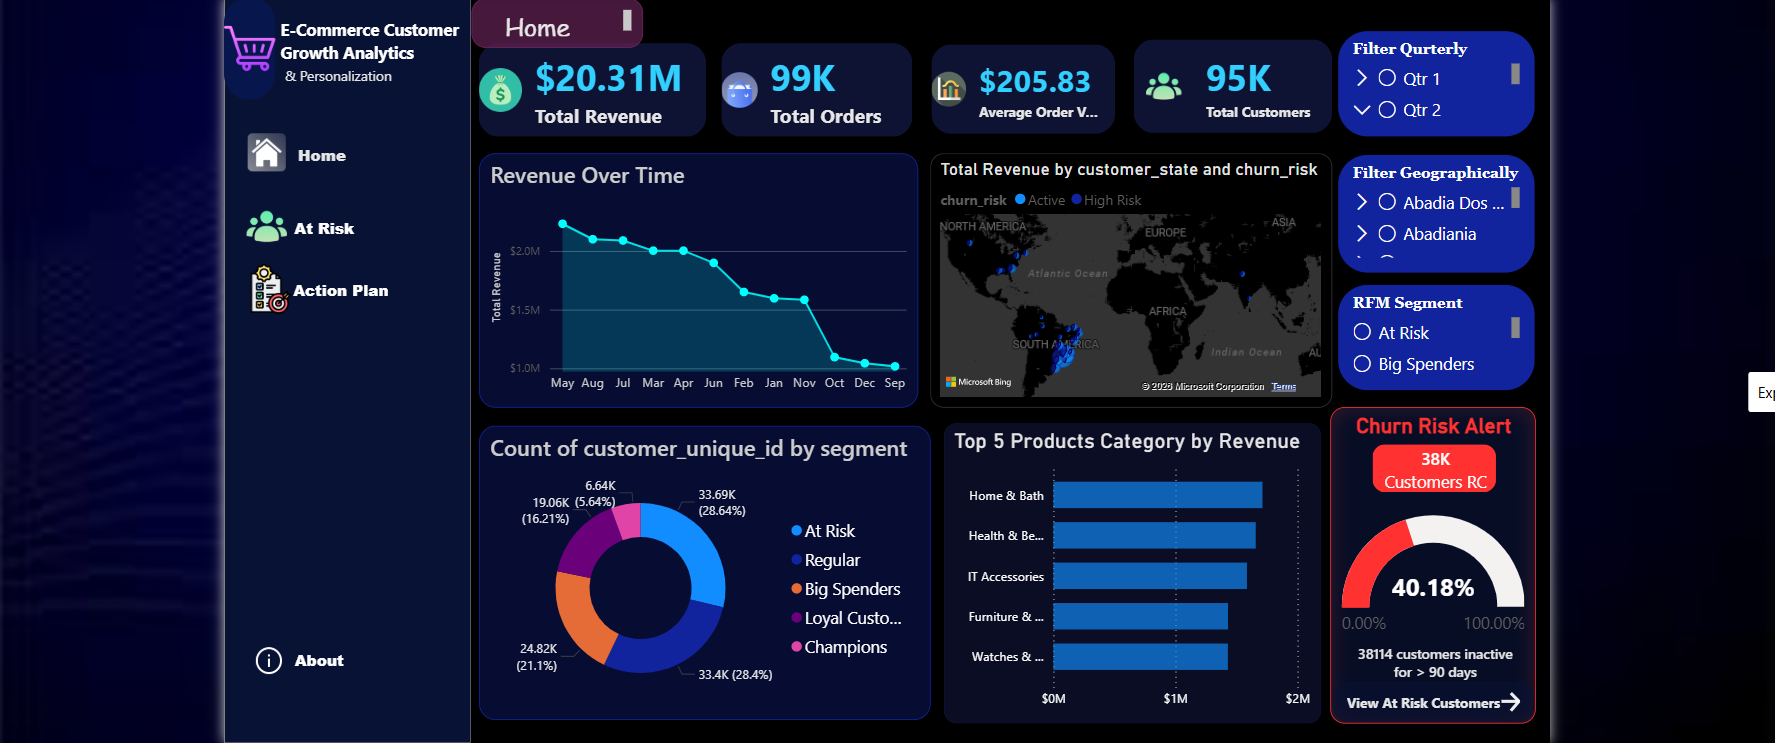

This screenshot's page, from the dashboard's own definition file:
{"tool":"powerbi","page":{"name":"Dashboard","canvas":[1280,720],"ordinal":0},"visuals":[{"type":"shape","box":[0,0,238.8,720.4],"z":0,"group":"g2"},{"type":"cardVisual","fields":{"Data":["Calendar.AOV"]},"box":[665.5,28.8,211.3,120.8],"z":0,"group":"g5"},{"type":"group","id":"g1","title":"Group 1","box":[1058,395.2,222.3,308.7],"z":0,"group":"g4"},{"type":"gauge","title":"Churn Risk Alert","fields":{"Y":["Calendar.Churn Risk %"]},"box":[1067.6,395.2,198.6,305.4],"z":0,"group":"g3"},{"type":"cardVisual","fields":{"Data":["Calendar.Total Customers"]},"box":[861.8,24.7,225,124.9],"z":1000,"group":"g5"},{"type":"textbox","box":[65.9,137.2,74.1,42.5],"z":1000,"group":"g2"},{"type":"cardVisual","fields":{"Data":["Calendar.Customers At Risk Count"]},"box":[1091.6,414.7,153.9,80.3],"z":1000,"group":"g3"},{"type":"actionButton","box":[1069.7,660,194.5,38.8],"z":1000,"group":"g4"},{"type":"group","id":"g2","title":"Group 4","box":[0,0,238.8,720.4],"z":2000,"group":"g5"},{"type":"image","box":[8.2,131.7,65.9,37],"z":2000,"group":"g2"},{"type":"cardVisual","fields":{"Data":["Calendar.Inactive Customers Label"]},"box":[1058,578.9,222.3,125.1],"z":2000,"group":"g3"},{"type":"cardVisual","fields":{"Data":["Calendar.Total Orders"]},"box":[463.8,27.4,218.2,124.9],"z":3000,"group":"g5"},{"type":"textbox","box":[49.4,207.2,94.7,37],"z":3000,"group":"g2"},{"type":"cardVisual","fields":{"Data":["Calendar.Total Revenue"]},"box":[229.2,27.4,253.9,124.9],"z":4000,"group":"g5"},{"type":"image","box":[8.2,179.8,65.9,83.7],"z":4000,"group":"g2"},{"type":"areaChart","title":"Revenue Over Time","fields":{"Category":["Calendar.Month"],"Y":["Calendar.Total Revenue"]},"box":[245.6,150.9,424,245.6],"z":5000,"group":"g5"},{"type":"textbox","box":[44.4,624.4,94.7,37],"z":6000,"group":"g5"},{"type":"textbox","box":[53.5,267.6,119.4,37],"z":7000,"group":"g5"},{"type":"group","id":"g3","title":"Group 2","box":[1058,395.2,222.3,308.7],"z":7504,"group":"g1"},{"type":"donutChart","fields":{"Y":["CountNonNull(final_dashboard_master.customer_unique_id)"],"Category":["final_dashboard_master.segment"]},"box":[245.6,414.4,436.4,284],"z":8000,"group":"g5"},{"type":"textbox","box":[49.4,15.1,229.2,93.3],"z":9000,"group":"g5"},{"type":"map","fields":{"Category":["final_dashboard_master.customer_state"],"Size":["Calendar.Total Revenue"],"Series":["final_dashboard_master.churn_risk"]},"box":[682,150.9,388.3,245.6],"z":10000,"group":"g5"},{"type":"image","box":[0,0,49.5,98.9],"z":11000,"group":"g5"},{"type":"group","id":"g4","title":"Group 3","box":[1058,395.2,222.3,308.7],"z":12000,"group":"g5"},{"type":"actionButton","box":[17.8,130.4,131.7,39.8],"z":13000,"group":"g5"},{"type":"actionButton","box":[12.3,201.7,150.9,39.8],"z":14000,"group":"g5"},{"type":"clusteredBarChart","fields":{"Category":["final_dashboard_master.category_english"],"Y":["Calendar.Total Revenue"]},"box":[694.3,411.7,363.6,289.5],"z":15000,"group":"g5"},{"type":"image","box":[28,621.6,31.6,38.4],"z":16000,"group":"g5"},{"type":"actionButton","box":[24.7,620.2,119.4,39.8],"z":17000,"group":"g5"},{"type":"actionButton","box":[17.8,201.7,127.6,39.8],"z":18000,"group":"g5"},{"type":"actionButton","box":[12.3,253.9,183.9,53.5],"z":19000,"group":"g5"},{"type":"actionButton","box":[22,127.6,127.6,39.8],"z":20000,"group":"g5"},{"type":"actionButton","box":[12.3,201.7,127.6,39.8],"z":21000,"group":"g5"},{"type":"image","box":[20.6,242.9,49.4,78.2],"z":22000,"group":"g5"},{"type":"group","id":"g5","title":"Group 5","box":[0,0,1280.3,720.4],"z":22004},{"type":"listSlicer","title":"Filter Qurterly","fields":{"Values":["final_dashboard_master.order_estimated_delivery_date.Variation.Date Hierarchy.Quarter","final_dashboard_master.order_purchase_timestamp"]},"box":[1073.7,31.4,193,105],"z":23000,"group":"g5"},{"type":"listSlicer","title":"Filter Geographically","fields":{"Values":["final_dashboard_master.customer_city","final_dashboard_master.customer_state"]},"box":[1073.7,150.8,193,117],"z":24000,"group":"g5"},{"type":"listSlicer","title":"RFM Segment","fields":{"Values":["final_dashboard_master.segment"]},"box":[1073.7,276.3,193,105],"z":25000,"group":"g5"},{"type":"textbox","box":[238.9,1.2,165.3,48.3],"z":26000,"group":"g5"}]}

Visuals, with their boxes on the page's 1280x720 design canvas (x1, y1, x2, y2). These are canvas units, not pixel positions in the 1775x743 screenshot, which may show the page scaled, cropped or inside an application window:
shape: {"left": 0, "top": 0, "right": 239, "bottom": 720}
cardVisual - Calendar.AOV: {"left": 666, "top": 29, "right": 877, "bottom": 150}
"Group 1" group: {"left": 1058, "top": 395, "right": 1280, "bottom": 704}
"Churn Risk Alert" gauge: {"left": 1068, "top": 395, "right": 1266, "bottom": 701}
cardVisual - Calendar.Total Customers: {"left": 862, "top": 25, "right": 1087, "bottom": 150}
textbox: {"left": 66, "top": 137, "right": 140, "bottom": 180}
cardVisual - Calendar.Customers At Risk Count: {"left": 1092, "top": 415, "right": 1246, "bottom": 495}
actionButton: {"left": 1070, "top": 660, "right": 1264, "bottom": 699}
"Group 4" group: {"left": 0, "top": 0, "right": 239, "bottom": 720}
image: {"left": 8, "top": 132, "right": 74, "bottom": 169}
cardVisual - Calendar.Inactive Customers Label: {"left": 1058, "top": 579, "right": 1280, "bottom": 704}
cardVisual - Calendar.Total Orders: {"left": 464, "top": 27, "right": 682, "bottom": 152}
textbox: {"left": 49, "top": 207, "right": 144, "bottom": 244}
cardVisual - Calendar.Total Revenue: {"left": 229, "top": 27, "right": 483, "bottom": 152}
image: {"left": 8, "top": 180, "right": 74, "bottom": 264}
"Revenue Over Time" areaChart: {"left": 246, "top": 151, "right": 670, "bottom": 396}
textbox: {"left": 44, "top": 624, "right": 139, "bottom": 661}
textbox: {"left": 54, "top": 268, "right": 173, "bottom": 305}
"Group 2" group: {"left": 1058, "top": 395, "right": 1280, "bottom": 704}
donutChart - CountNonNull(final_dashboard_master.customer_unique_id) x final_dashboard_master.segment: {"left": 246, "top": 414, "right": 682, "bottom": 698}
textbox: {"left": 49, "top": 15, "right": 279, "bottom": 108}
map - final_dashboard_master.customer_state x Calendar.Total Revenue: {"left": 682, "top": 151, "right": 1070, "bottom": 396}
image: {"left": 0, "top": 0, "right": 50, "bottom": 99}
"Group 3" group: {"left": 1058, "top": 395, "right": 1280, "bottom": 704}
actionButton: {"left": 18, "top": 130, "right": 150, "bottom": 170}
actionButton: {"left": 12, "top": 202, "right": 163, "bottom": 242}
clusteredBarChart - final_dashboard_master.category_english x Calendar.Total Revenue: {"left": 694, "top": 412, "right": 1058, "bottom": 701}
image: {"left": 28, "top": 622, "right": 60, "bottom": 660}
actionButton: {"left": 25, "top": 620, "right": 144, "bottom": 660}
actionButton: {"left": 18, "top": 202, "right": 145, "bottom": 242}
actionButton: {"left": 12, "top": 254, "right": 196, "bottom": 307}
actionButton: {"left": 22, "top": 128, "right": 150, "bottom": 167}
actionButton: {"left": 12, "top": 202, "right": 140, "bottom": 242}
image: {"left": 21, "top": 243, "right": 70, "bottom": 321}
"Group 5" group: {"left": 0, "top": 0, "right": 1280, "bottom": 720}
"Filter Qurterly" listSlicer: {"left": 1074, "top": 31, "right": 1267, "bottom": 136}
"Filter Geographically" listSlicer: {"left": 1074, "top": 151, "right": 1267, "bottom": 268}
"RFM Segment" listSlicer: {"left": 1074, "top": 276, "right": 1267, "bottom": 381}
textbox: {"left": 239, "top": 1, "right": 404, "bottom": 50}
